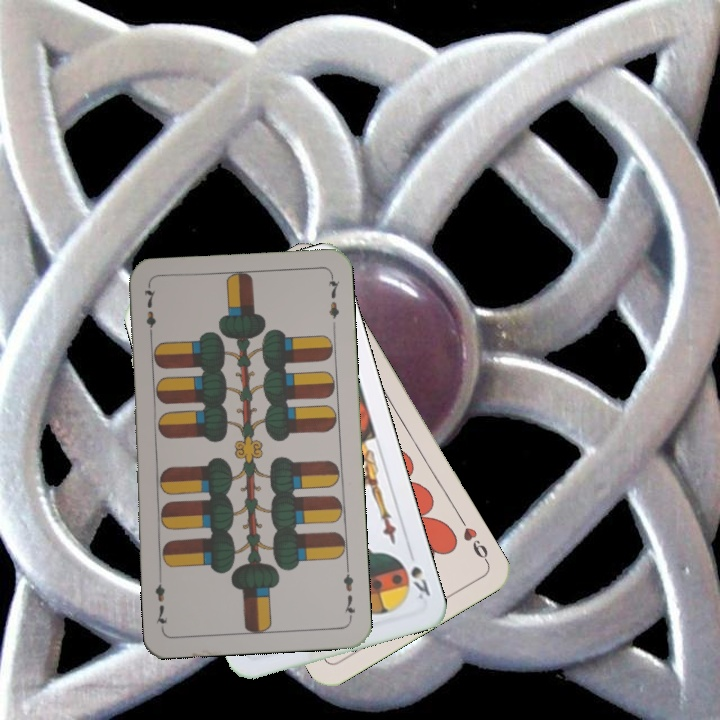E7: (339, 563, 358, 622), (140, 283, 159, 342)
H9: (455, 513, 492, 566)
SK: (406, 562, 433, 602)
